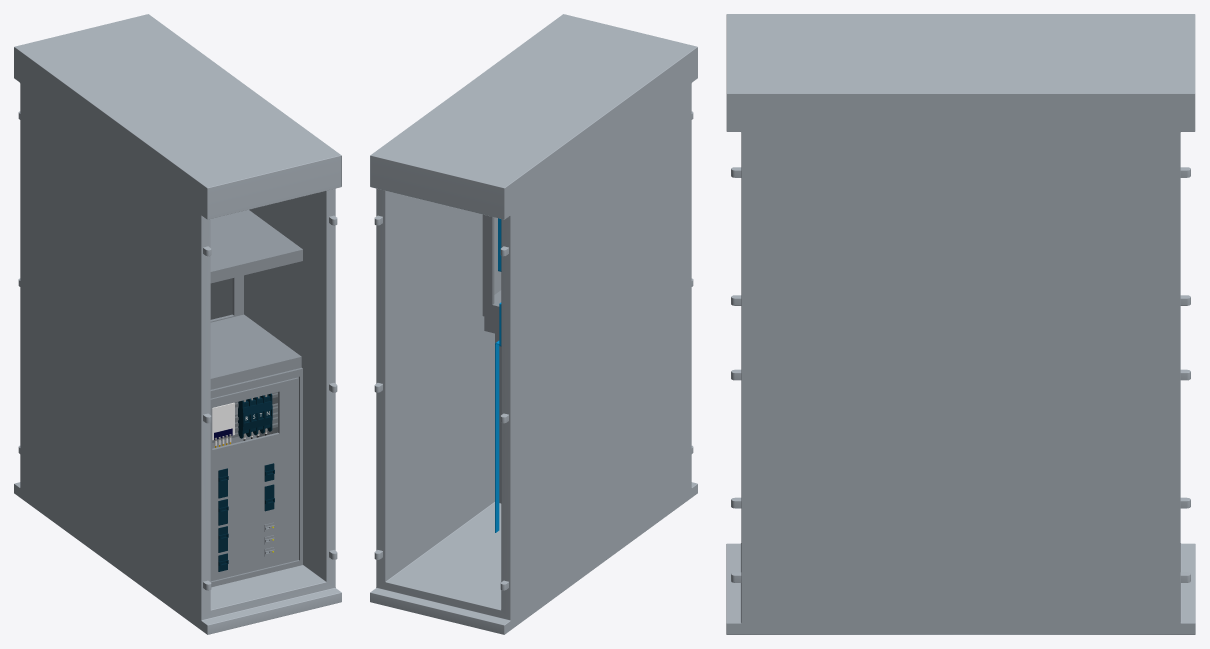
File: ACB_case.fbx
The picture shows the model from 3 angles, left to right: view 1: azimuth 30°, elevation 25°; view 2: azimuth 150°, elevation 25°; view 3: azimuth 270°, elevation 25°; orthographic projection. The views are drawn at different scales.
Parts seen in each view (by area): view 1: acb_base; view 2: acb_base; view 3: acb_base.
Part boxes in pixels (x1,y1,x2,y2): acb_base: (14,14,341,634); acb_base: (370,14,697,634); acb_base: (726,14,1195,634).
Size of the model in its own units: 0.645 by 2.04 by 1.61.
Materials: 1 (1 with a texture image).
